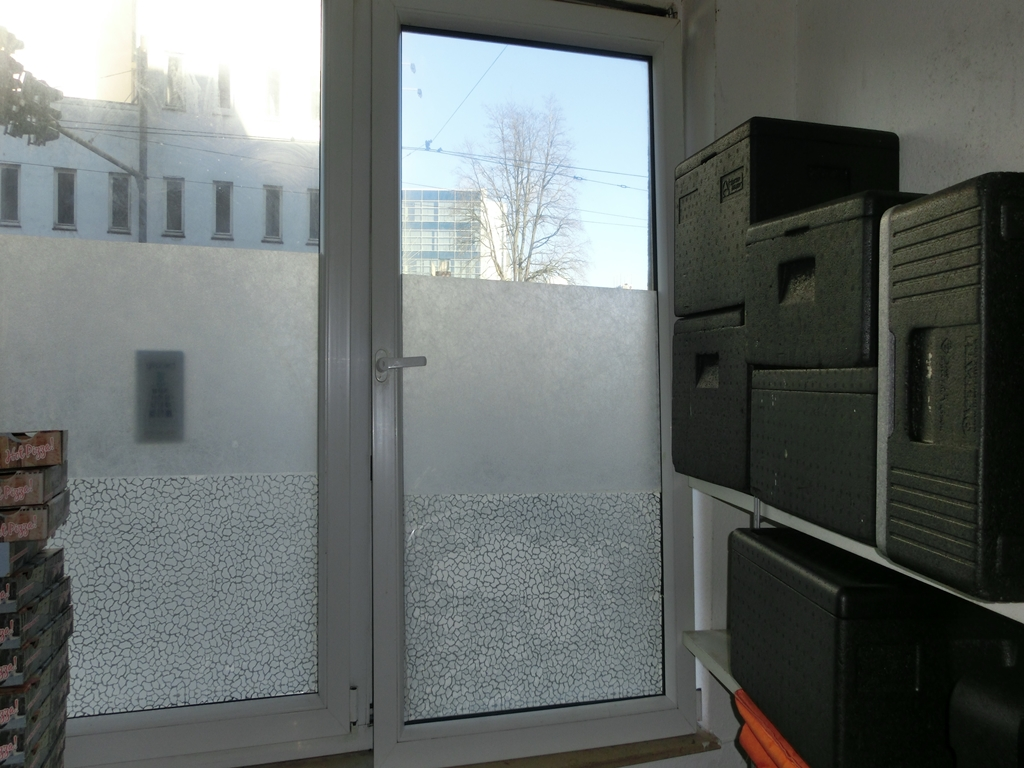windows: (3, 5, 675, 739)
